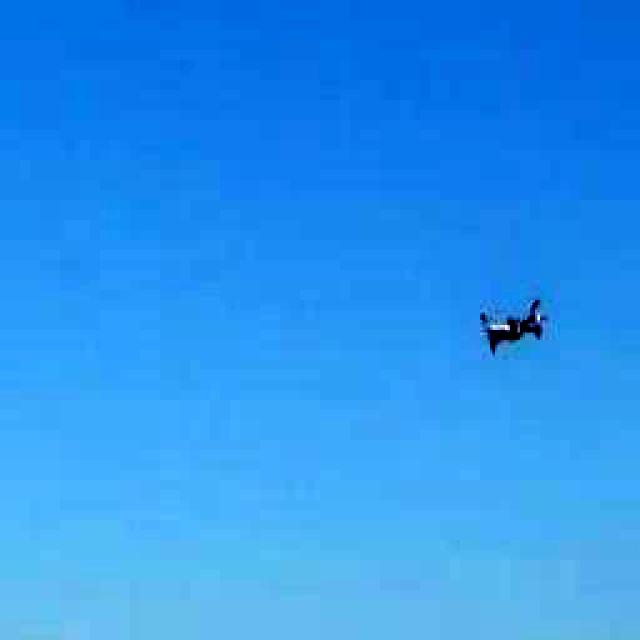bird: (481, 296, 546, 356)
